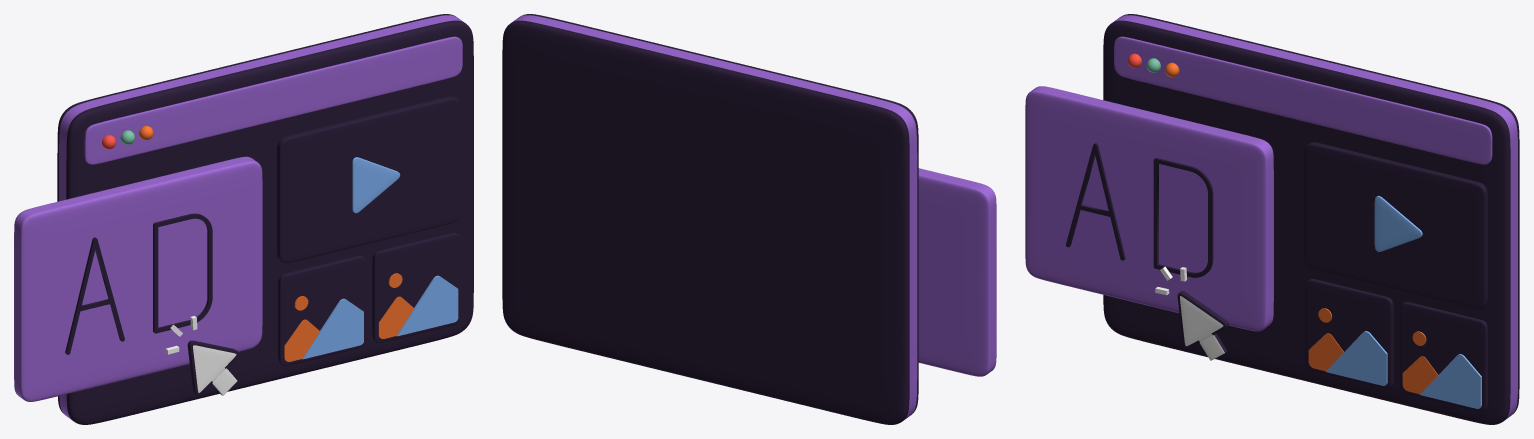
Rendered from web-advertising-3d-animated-icon-533539682514.glb.
The picture shows the model from 3 angles, left to right: view 1: azimuth 30°, elevation 25°; view 2: azimuth 150°, elevation 25°; view 3: azimuth 330°, elevation 25°; orthographic projection.
Visible parts, largest first — view 1: Window Apps, Advertising, Play Icon, Image Icon 2, Image Icon 2.001, Mouse Icon; view 2: Window Apps, Advertising; view 3: Window Apps, Advertising, Play Icon, Image Icon 2.001, Image Icon 2, Mouse Icon.
Part boxes in pixels (x1,y1,x2,y2): Window Apps: [57, 14, 473, 424]; Advertising: [14, 156, 262, 401]; Play Icon: [277, 96, 460, 263]; Image Icon 2: [372, 232, 460, 342]; Image Icon 2.001: [278, 255, 366, 365]; Mouse Icon: [187, 340, 238, 395]; Window Apps: [502, 14, 918, 424]; Advertising: [918, 168, 996, 376]; Window Apps: [1103, 14, 1519, 424]; Advertising: [1025, 86, 1273, 331]; Play Icon: [1304, 142, 1487, 308]; Image Icon 2.001: [1305, 278, 1393, 389]; Image Icon 2: [1399, 301, 1487, 412]; Mouse Icon: [1177, 291, 1228, 360].
Bounding box in the file's own units: 1.91 × 1.23 × 0.263.
